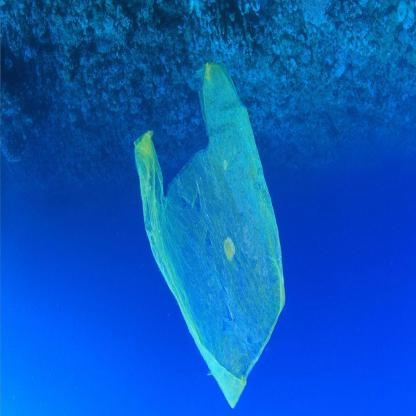pbag: (134, 62, 287, 408)
